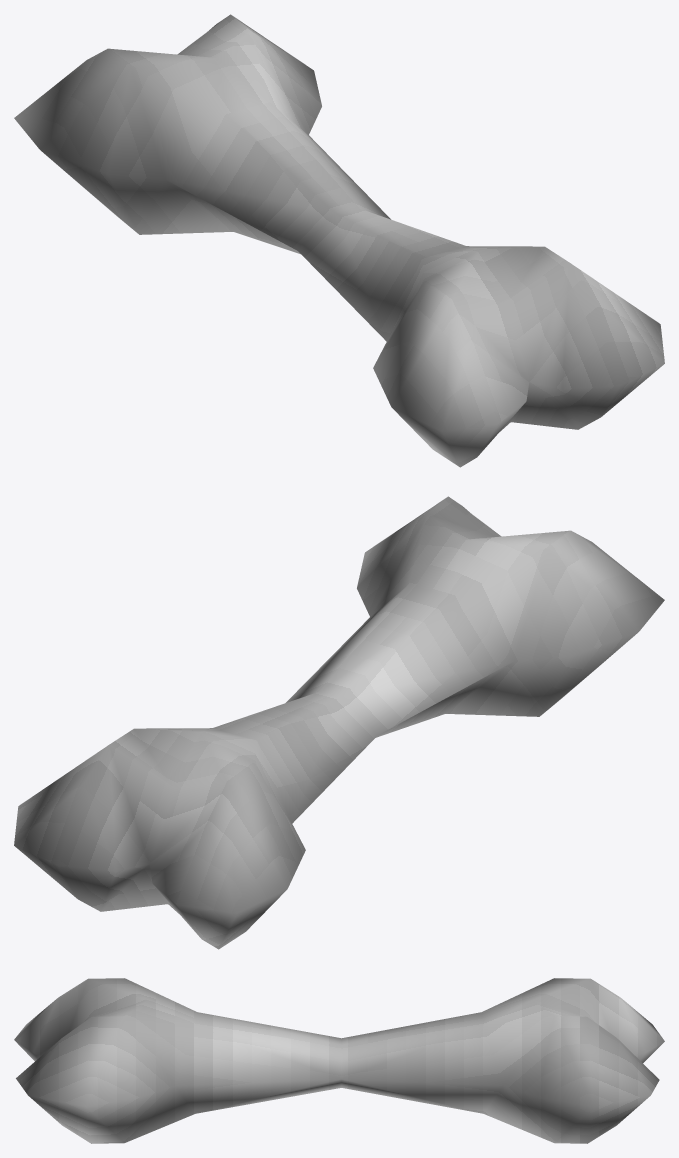
File: bone.obj
The picture shows the model from 3 angles, top to bottom: view 1: azimuth 30°, elevation 25°; view 2: azimuth 150°, elevation 25°; view 3: azimuth 270°, elevation 25°; orthographic projection. The views are drawn at different scales.
Visible parts, largest first — view 1: Duplicate01; view 2: Duplicate01; view 3: Duplicate01.
Part boxes in pixels (box(x1,y1,x2,y2)): Duplicate01: box(14, 14, 664, 467); Duplicate01: box(14, 496, 664, 949); Duplicate01: box(14, 978, 664, 1143).
Size of the model in its own units: 21.8 by 13.5 by 61.83.
